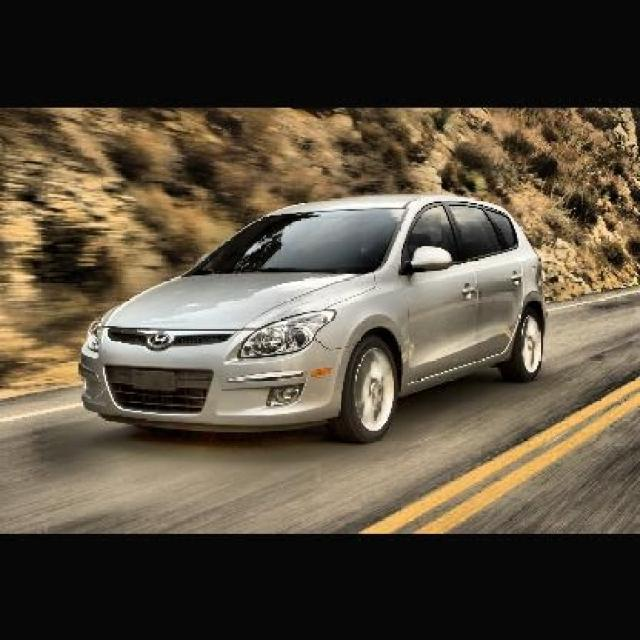silver: (76, 201, 547, 446)
